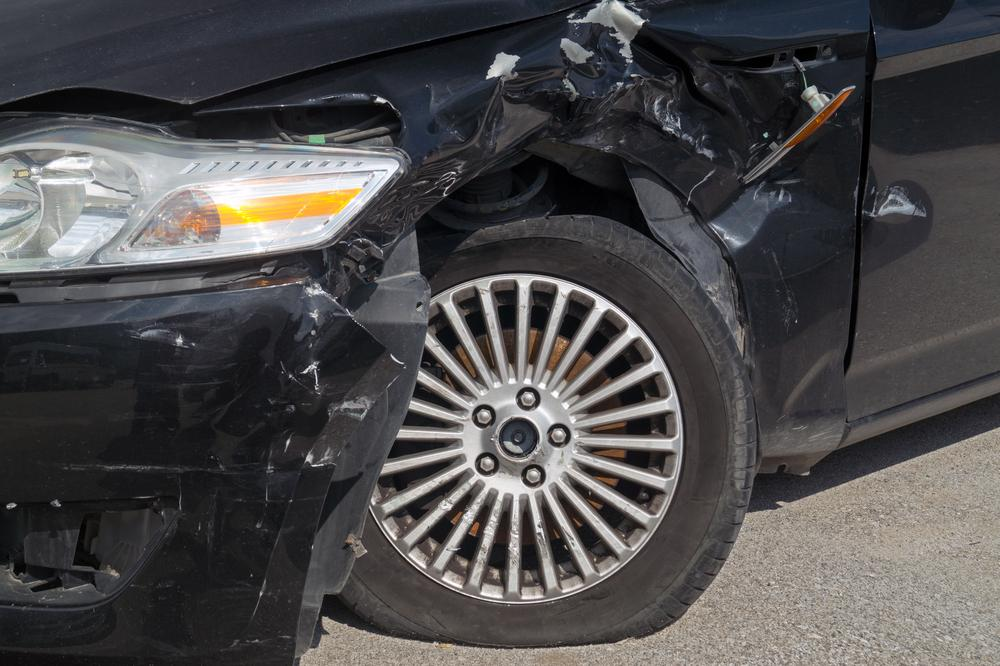crack: (194, 260, 300, 283)
dent: (356, 3, 747, 241)
scratch: (78, 283, 386, 487)
tire flat: (339, 202, 758, 650)
